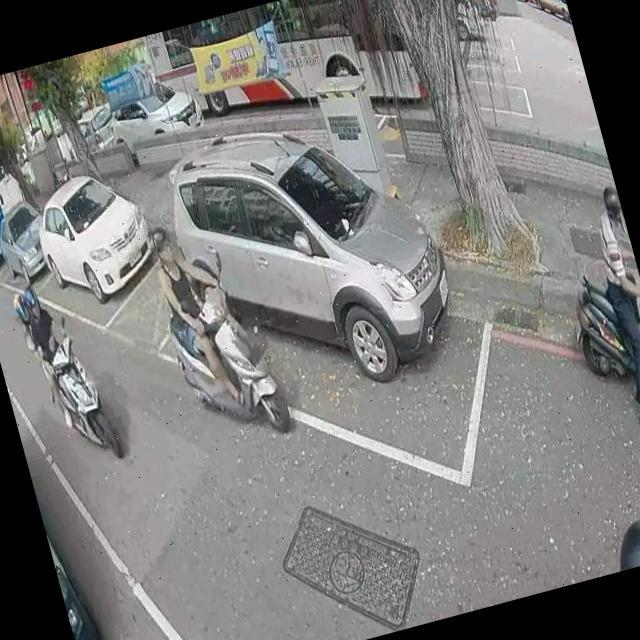person: (145, 210, 263, 418), (577, 182, 640, 433), (18, 276, 89, 432), (12, 284, 78, 421), (603, 511, 640, 572), (474, 0, 493, 13)
